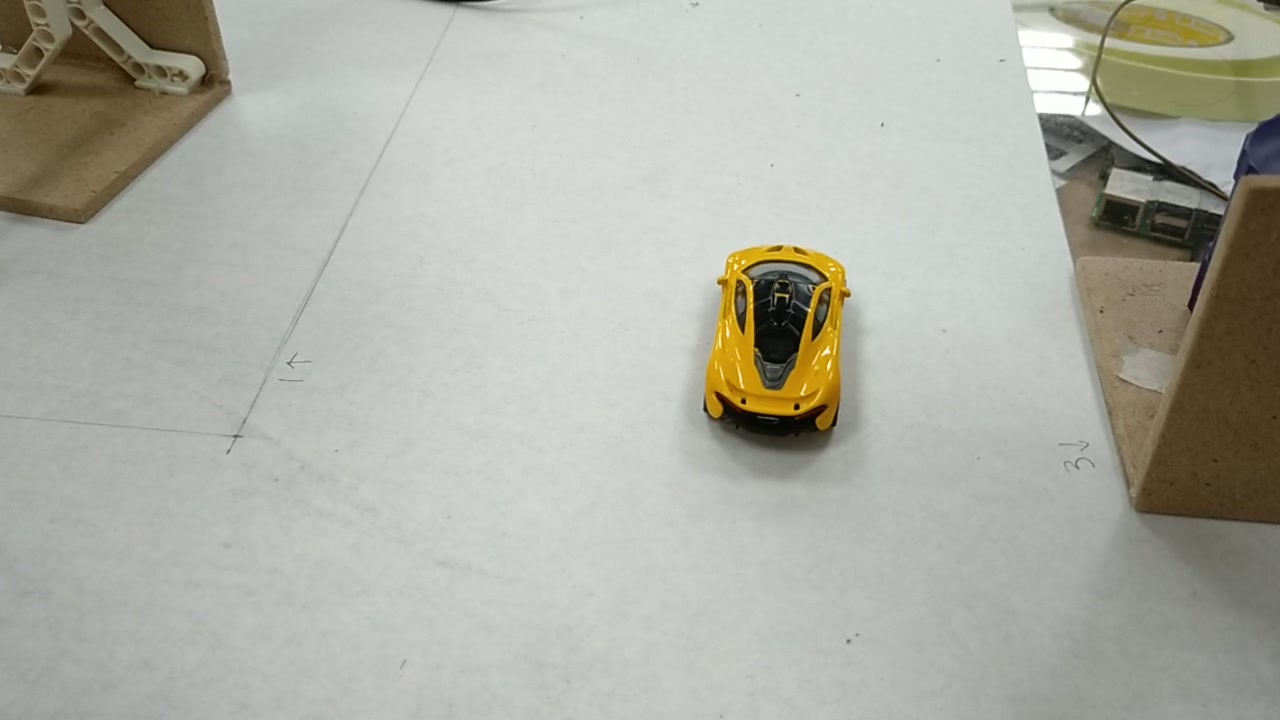car: (705, 246, 848, 435)
